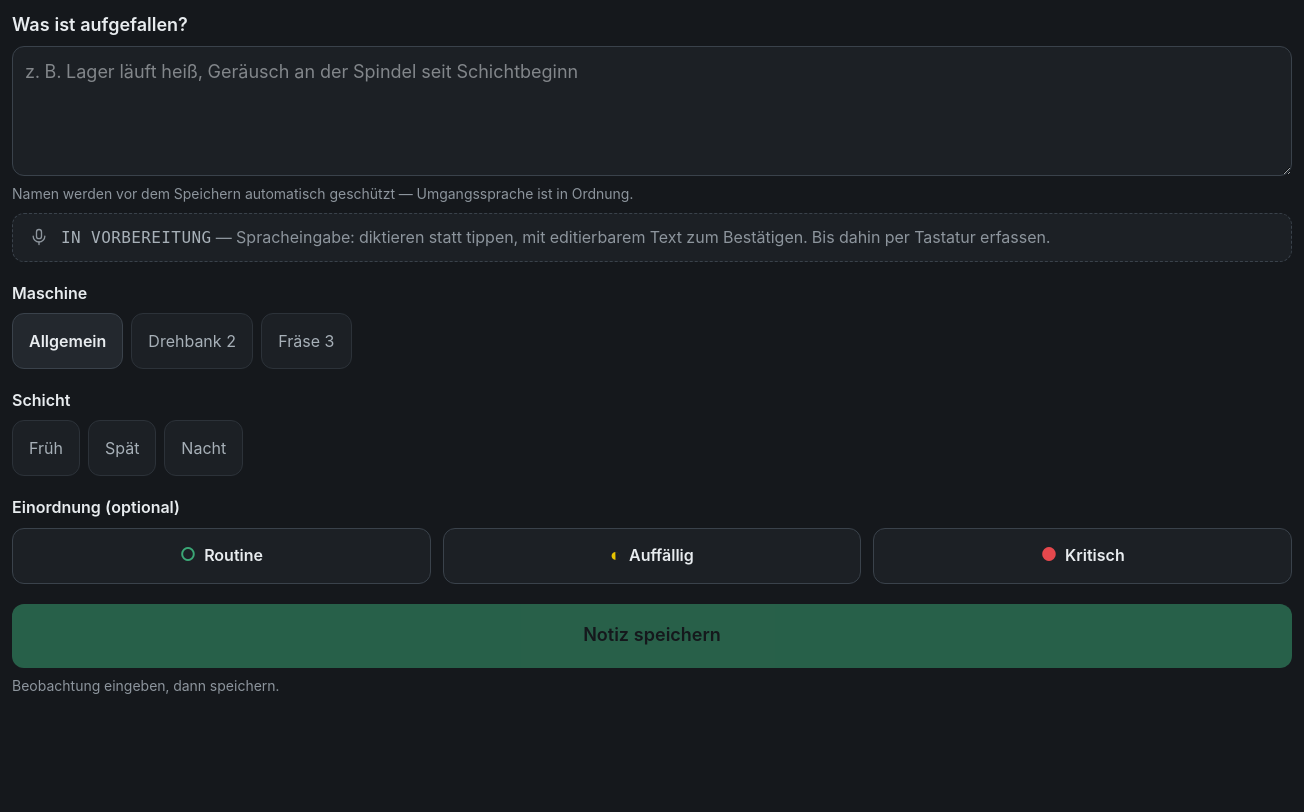
Test: CaptureForm — Happy-Path › sendet die Notiz und bestätigt 'Notiz erfasst'
Type "Lager läuft heiß" into the text box labelled "Was ist aufgefallen?".
click(652, 111); type("Lager läuft heiß")  # box [12, 46, 1292, 176]
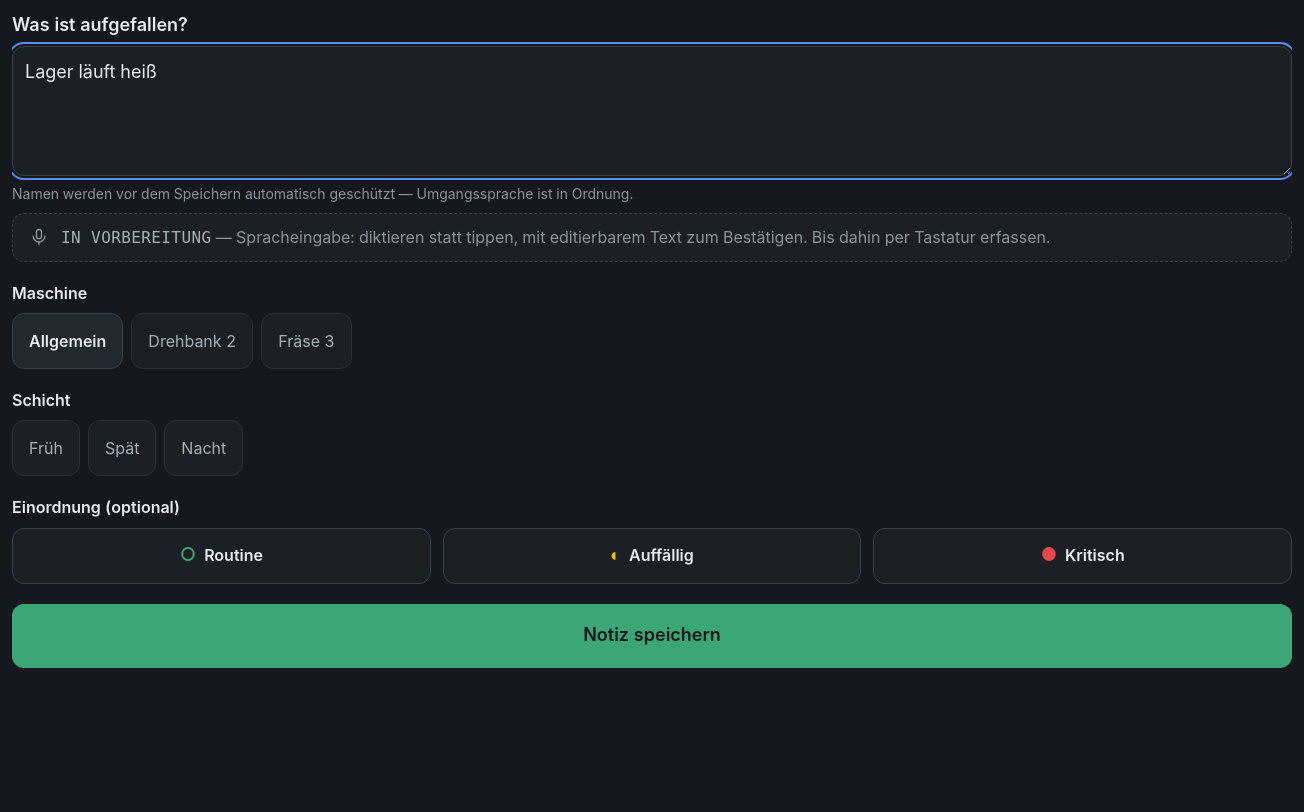
Click the button "Notiz speichern".
click(652, 636)  # box [12, 604, 1292, 668]
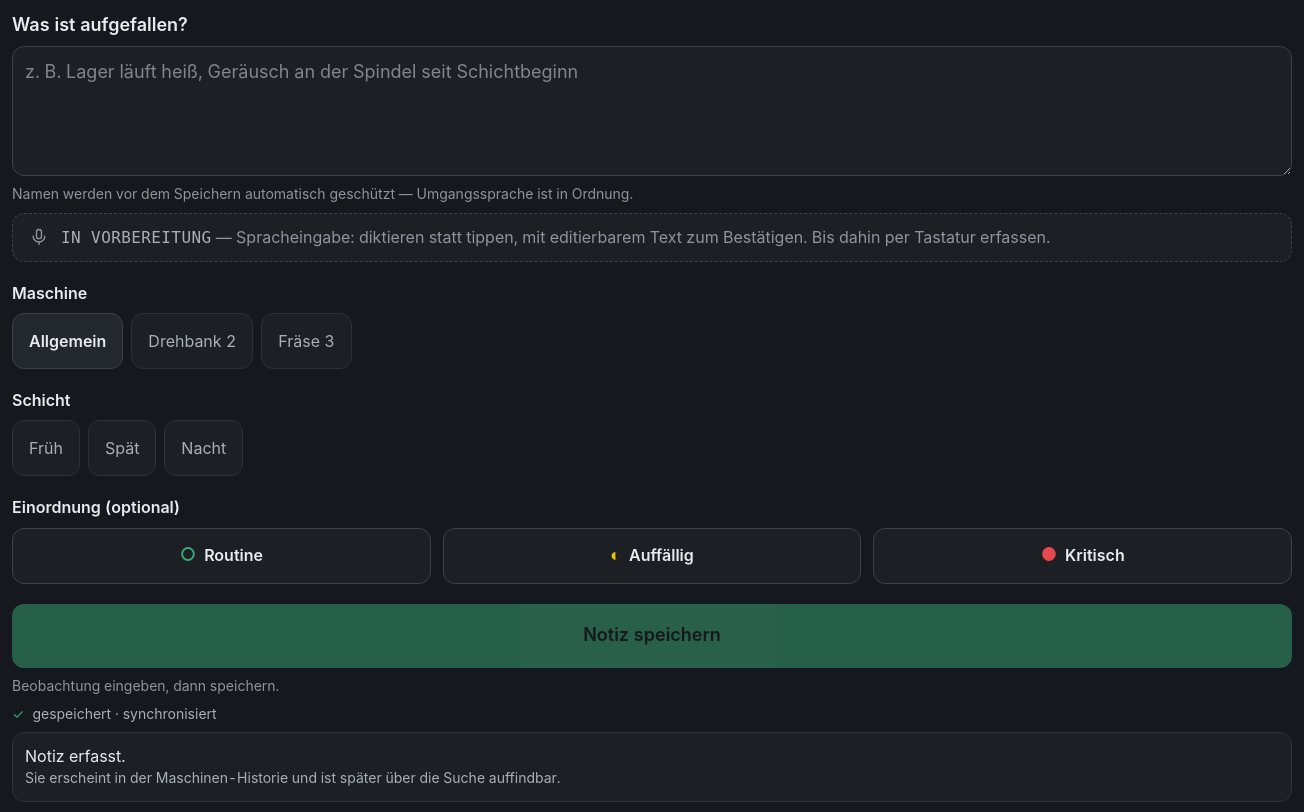
expect the text "Notiz erfasst." is shown: met, box [25, 746, 126, 766]
expect the text "Maschinen-Historie" is shown: met, box [25, 769, 561, 786]
